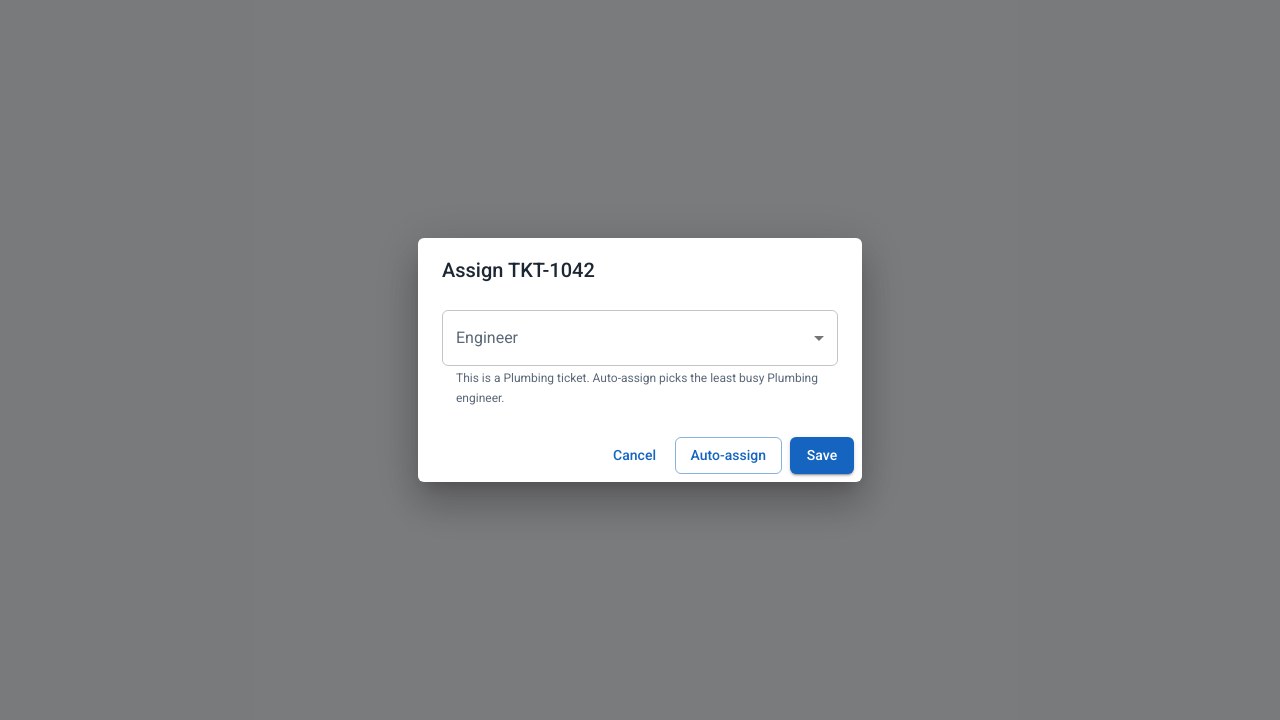
Test: AssignDialog › lists matching engineers first, least busy first, with what they are doing
Click the dropdown named "Engineer".
click(640, 338)  # box [442,310,838,366]
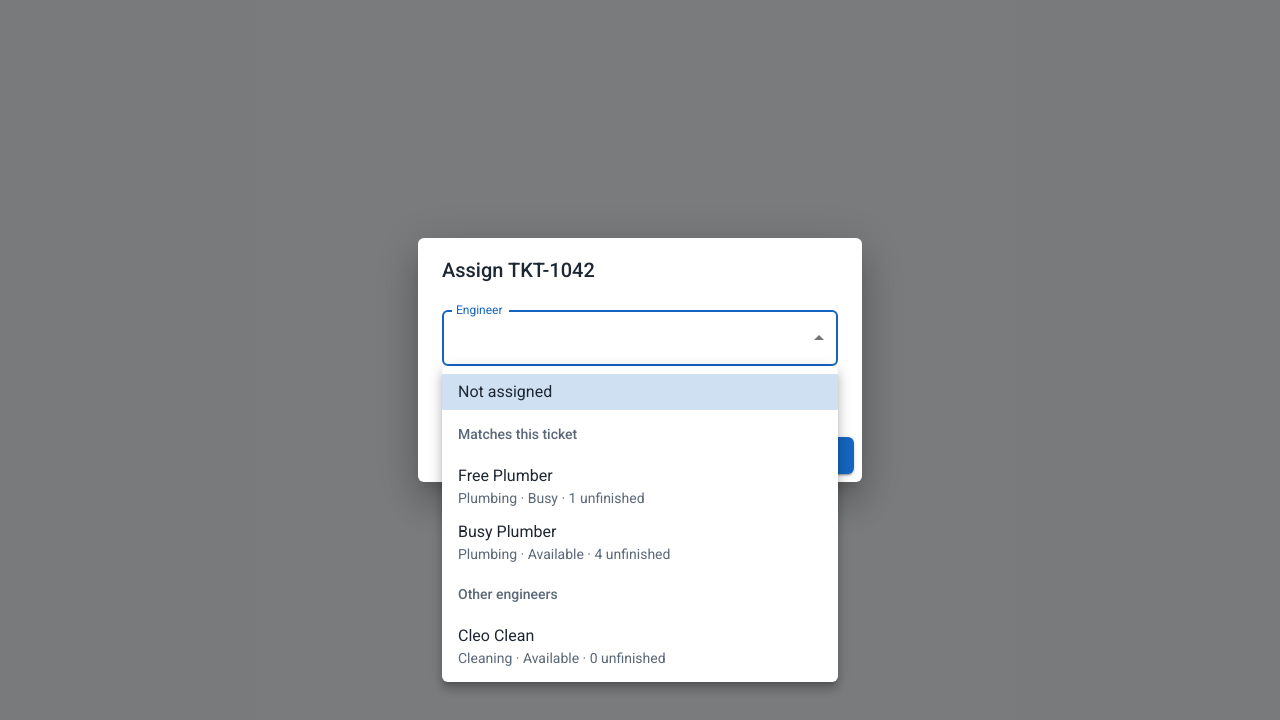
Expected: the option "Free Plumber Plumbing · Busy · 1 unfinished" is shown, [458,466,644,506]
